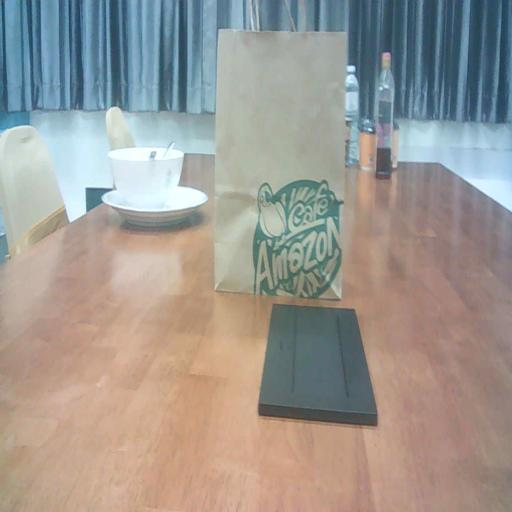bag: (212, 19, 353, 310)
